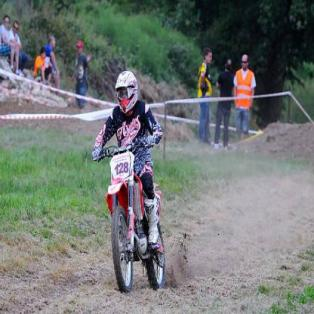Motocicleta: (91, 139, 170, 295)
